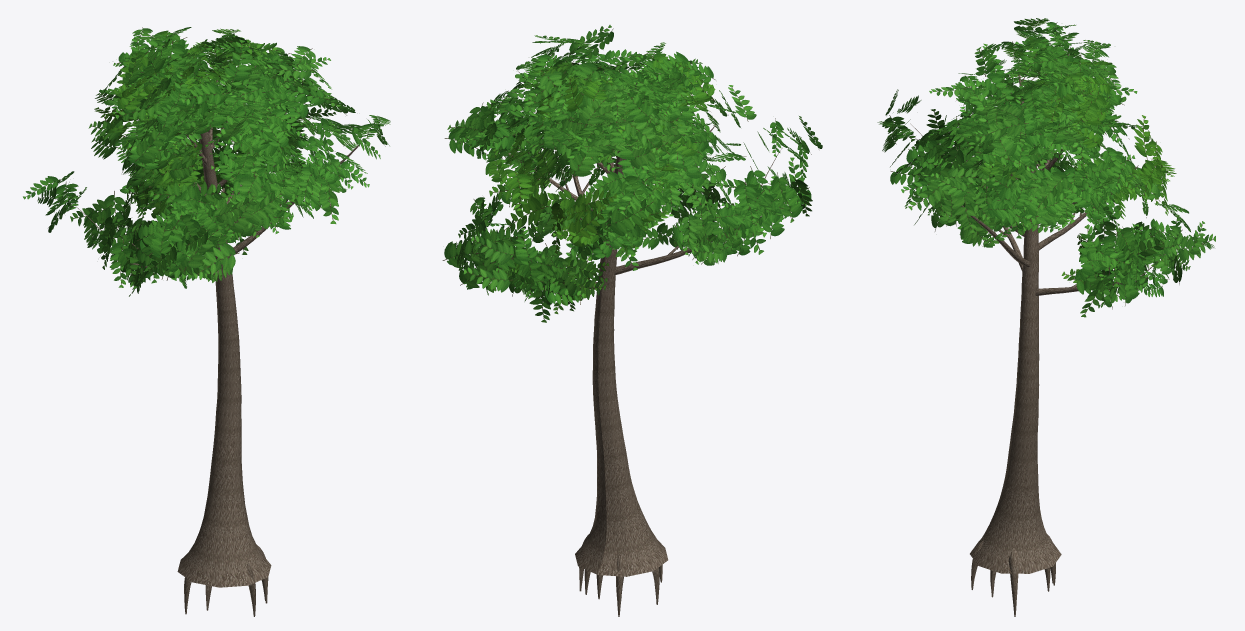
File: copa_g_a.glb
3 views of the same model, side by side, from view 1: azimuth 30°, elevation 25°; view 2: azimuth 150°, elevation 25°; view 3: azimuth 270°, elevation 25° (orthographic). The views are drawn at different scales.
Parts seen in each view (by area): view 1: copa_g_a; view 2: copa_g_a; view 3: copa_g_a.
Boxes of the visible parts, x1=… form: copa_g_a: x1=23, y1=27, x2=390, y2=616; copa_g_a: x1=442, y1=25, x2=822, y2=616; copa_g_a: x1=877, y1=18, x2=1215, y2=616.
Bounding box in the file's own units: 6.44 × 10.84 × 6.56.
2 materials, 2 textured.
